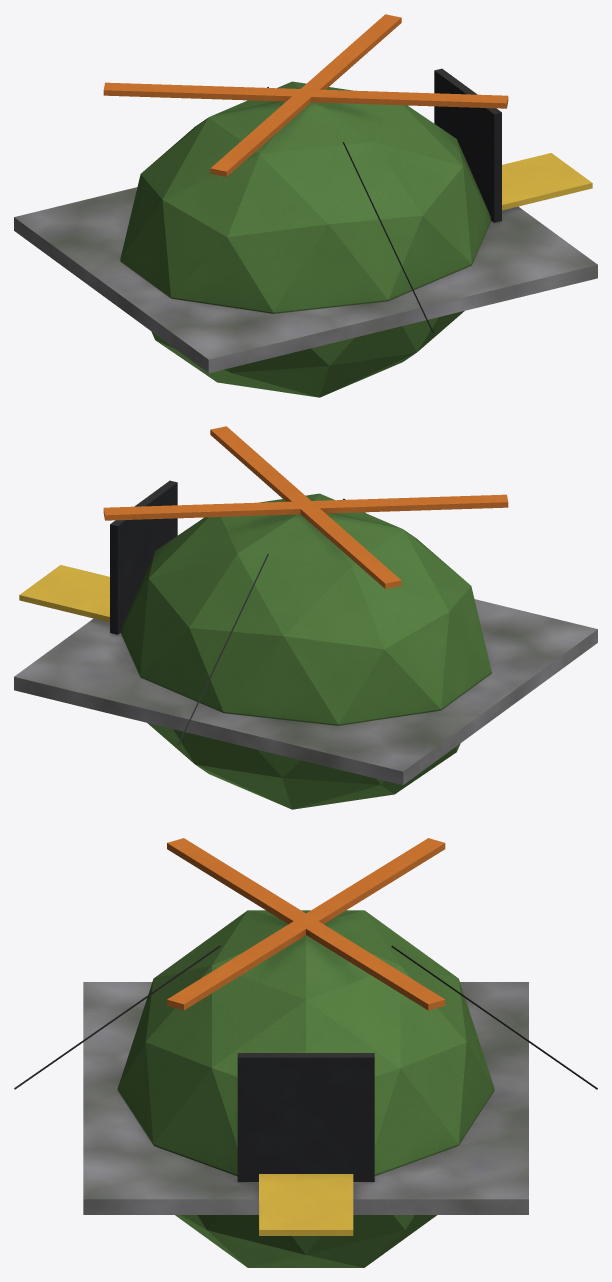
The model's file is talt_tex.glb.
3 renders of one model, top to bottom at view 1: azimuth 30°, elevation 25°; view 2: azimuth 150°, elevation 25°; view 3: azimuth 270°, elevation 25°, orthographic. The views are drawn at different scales.
Parts seen in each view (by area): view 1: talt; view 2: talt; view 3: talt.
Part boxes in pixels (box(x1,y1,x2,y2)): talt: box(14, 14, 597, 397); talt: box(14, 426, 597, 809); talt: box(14, 838, 597, 1267).
Size of the model in its own units: 3.55 by 2.13 by 3.41.
Materials: 5 (5 with a texture image).
